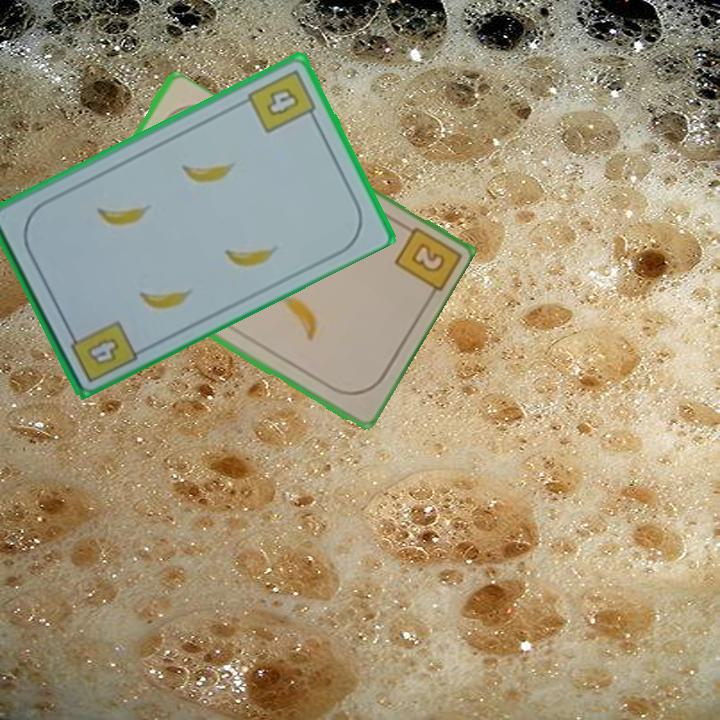2b: (406, 239, 448, 276)
4b: (243, 65, 321, 136), (64, 316, 140, 385)
